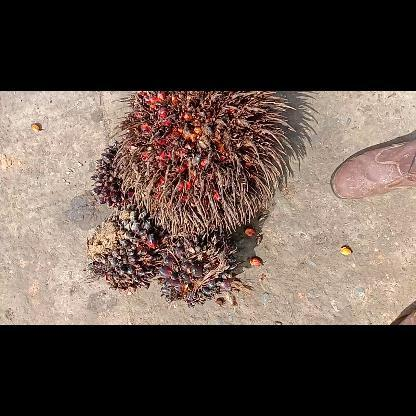TBS abnormal: (84, 204, 168, 294), (156, 230, 240, 310), (90, 142, 136, 210)
Terlalu masak: (108, 92, 298, 236)
